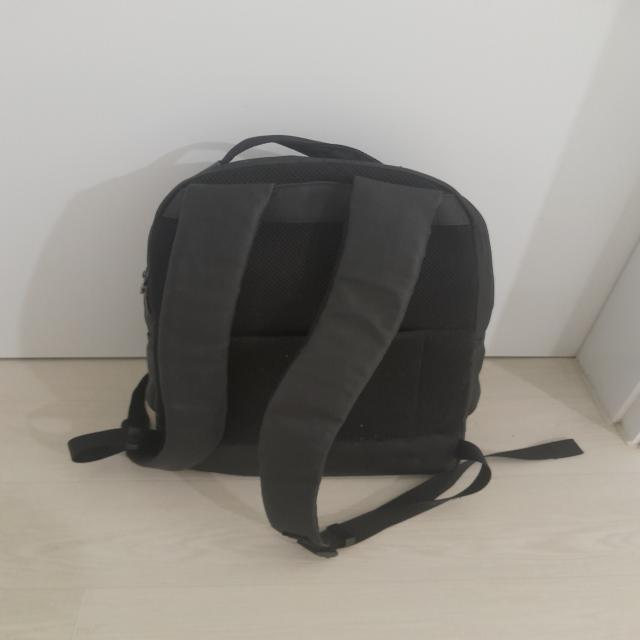backpack: (67, 134, 585, 558)
